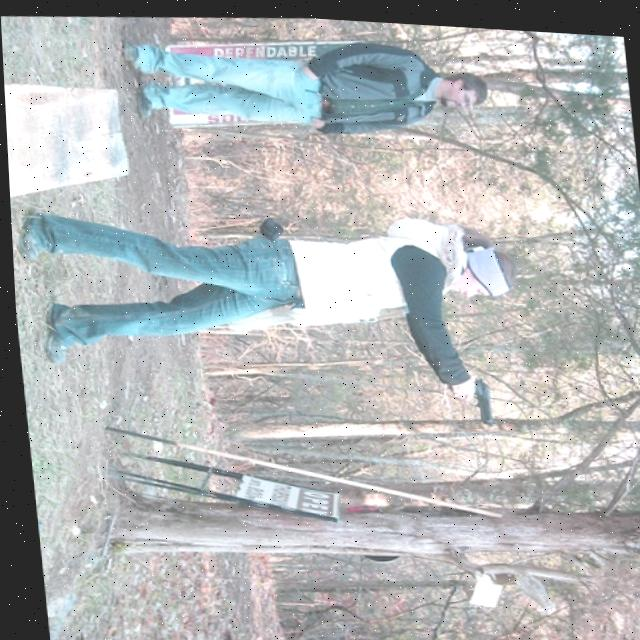pistol: (462, 371, 488, 419)
